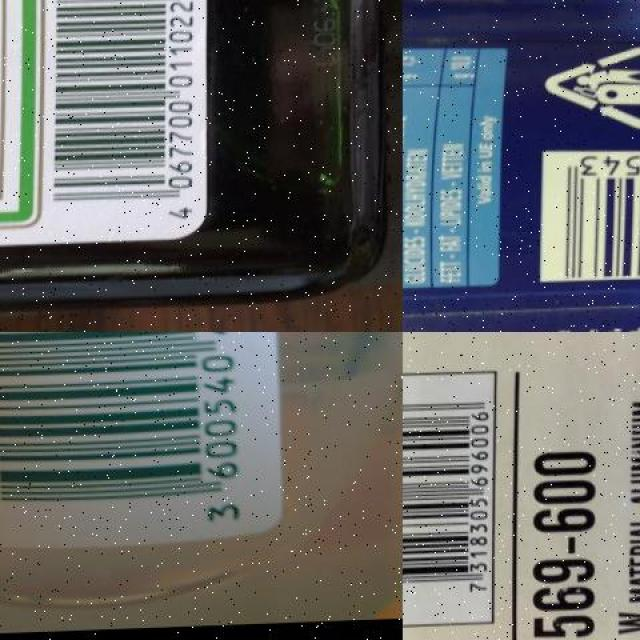Barcode: (0, 332, 253, 536), (44, 0, 212, 229), (402, 377, 490, 628), (537, 140, 640, 281)
